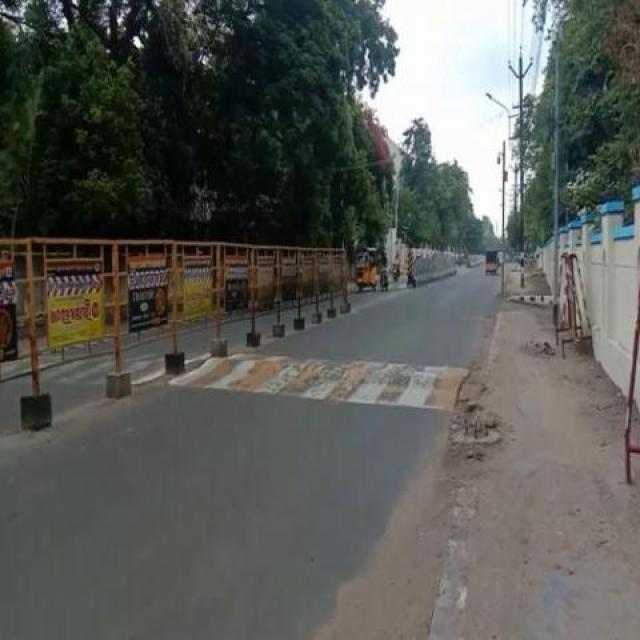Speed Bump: (165, 351, 474, 414)
